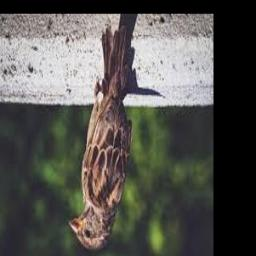Sparrow: (70, 25, 133, 252)
